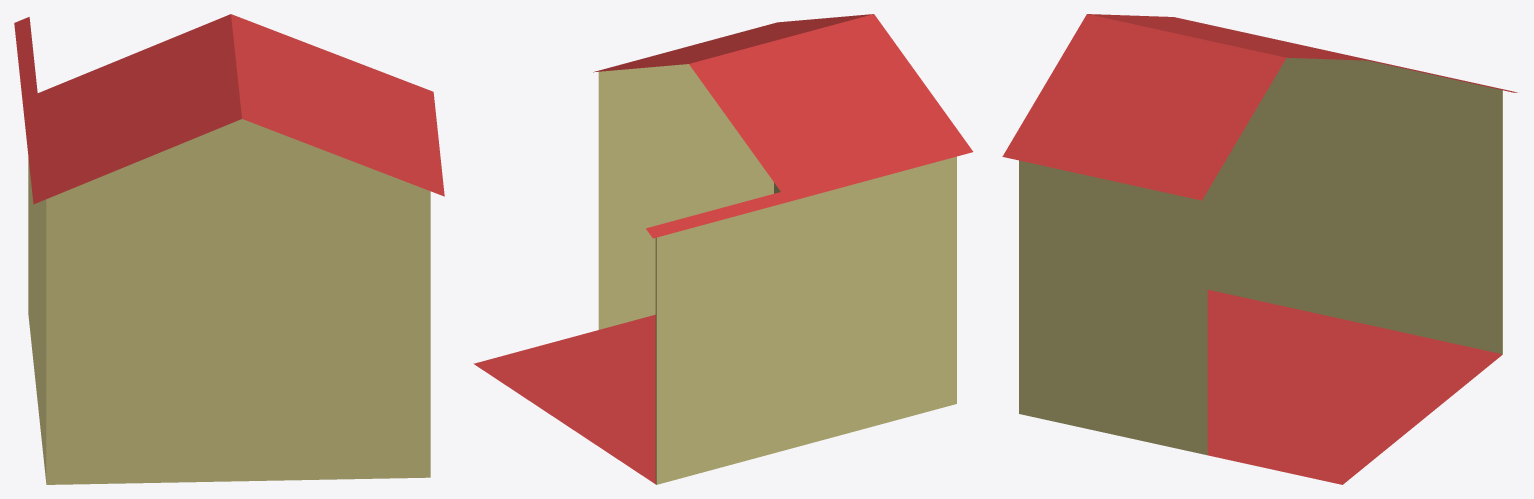
The picture shows the model from 3 angles, left to right: view 1: azimuth 30°, elevation 25°; view 2: azimuth 150°, elevation 25°; view 3: azimuth 270°, elevation 25°; orthographic projection. The views are drawn at different scales.
Bounding box in the file's own units: 10.04 × 10.52 × 7.48.
